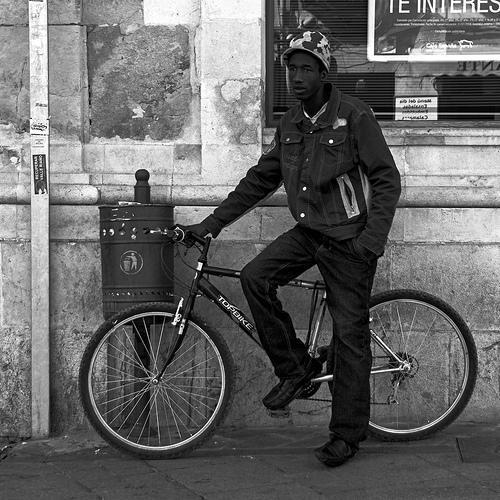Bote de Basura: (99, 197, 179, 331)
